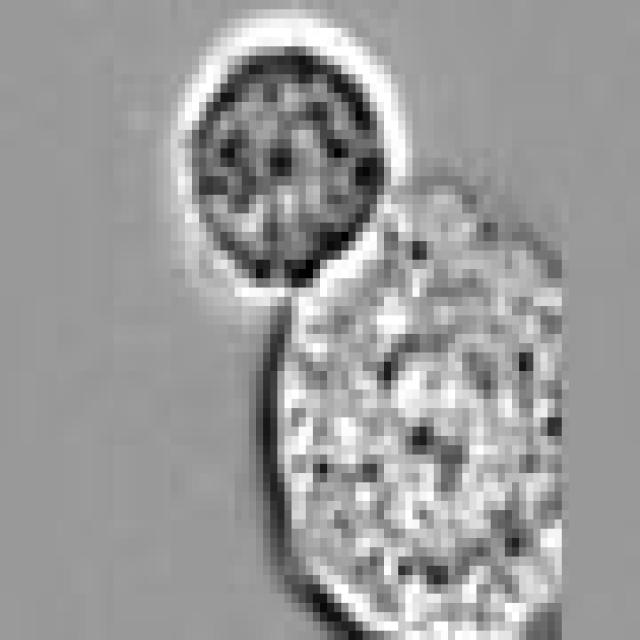Cancer Cell: (270, 195, 576, 640)
WBC: (192, 37, 384, 278)
